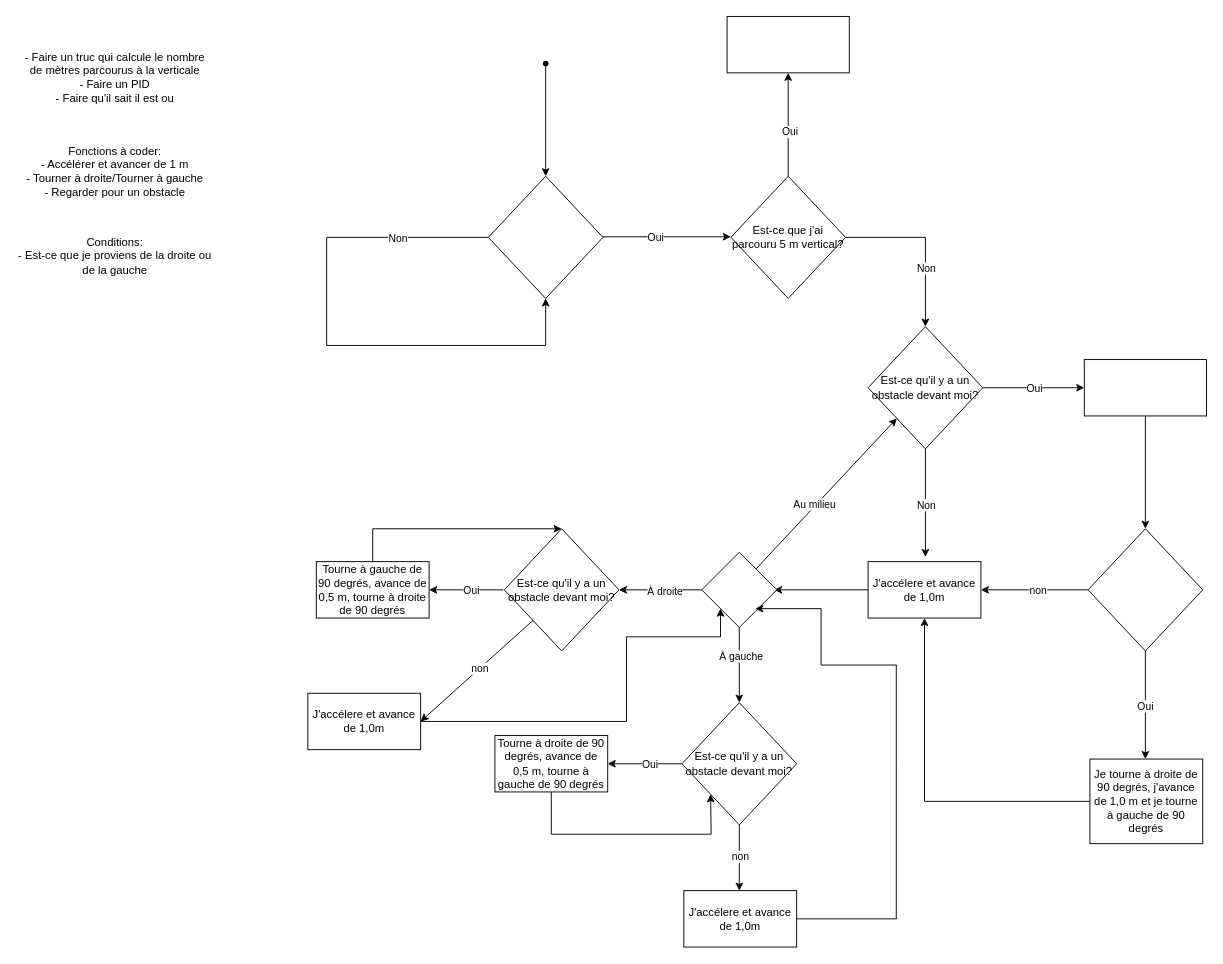
Image size: 1223x964. Some labels were removed from this diagram. Each missing label, with the centre of its shape:
Est-ce qu'il y à un obstacle devant moi?: (x=1145, y=589)
J'amorce le retour: (x=787, y=44)
J'entends le sifflet: (x=545, y=236)
Je tourne à gauche de 90 degrés et j'avance de 0,5m et je tourne a droite de 90: (x=1144, y=387)
Ou suis-je?: (x=739, y=589)
